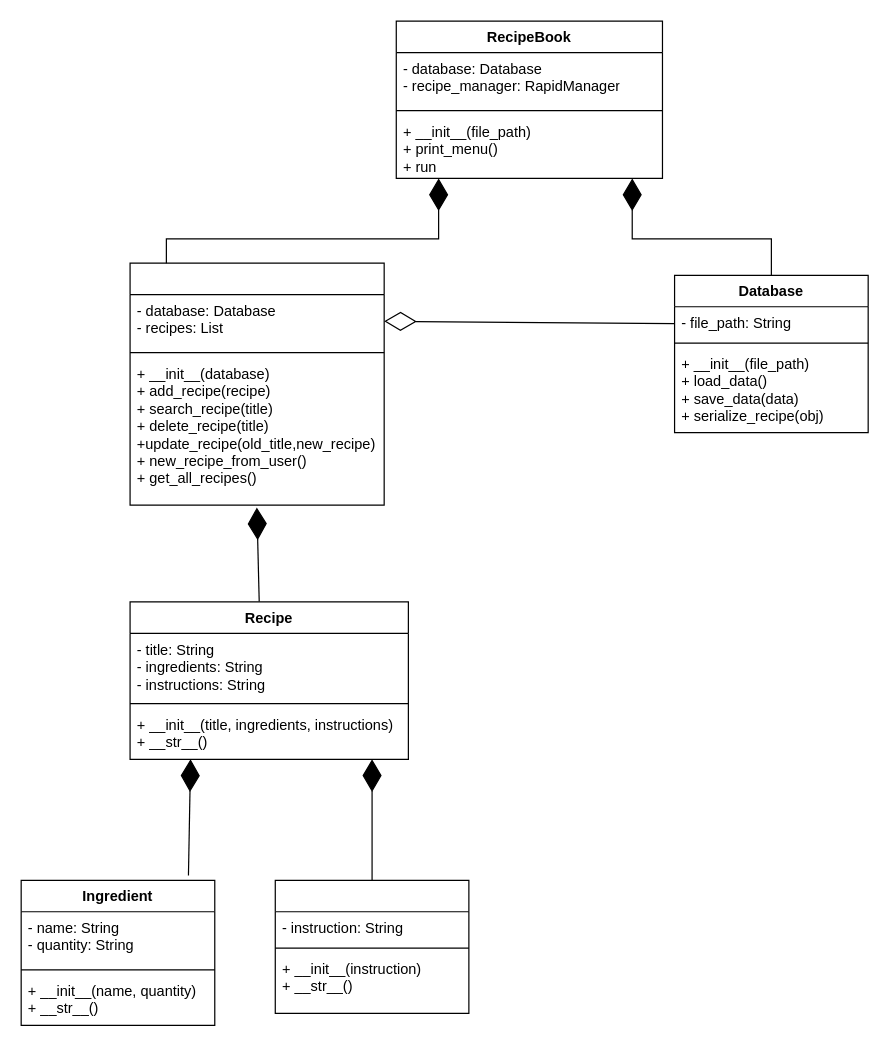
Image size: 889x1050. Some labels were removed from this diagram. Here are the shapes that lost their labels. From the top down, the box of each, then its label:
(129, 262, 384, 505): RecipeManager
(274, 879, 469, 1013): CookInstruction
